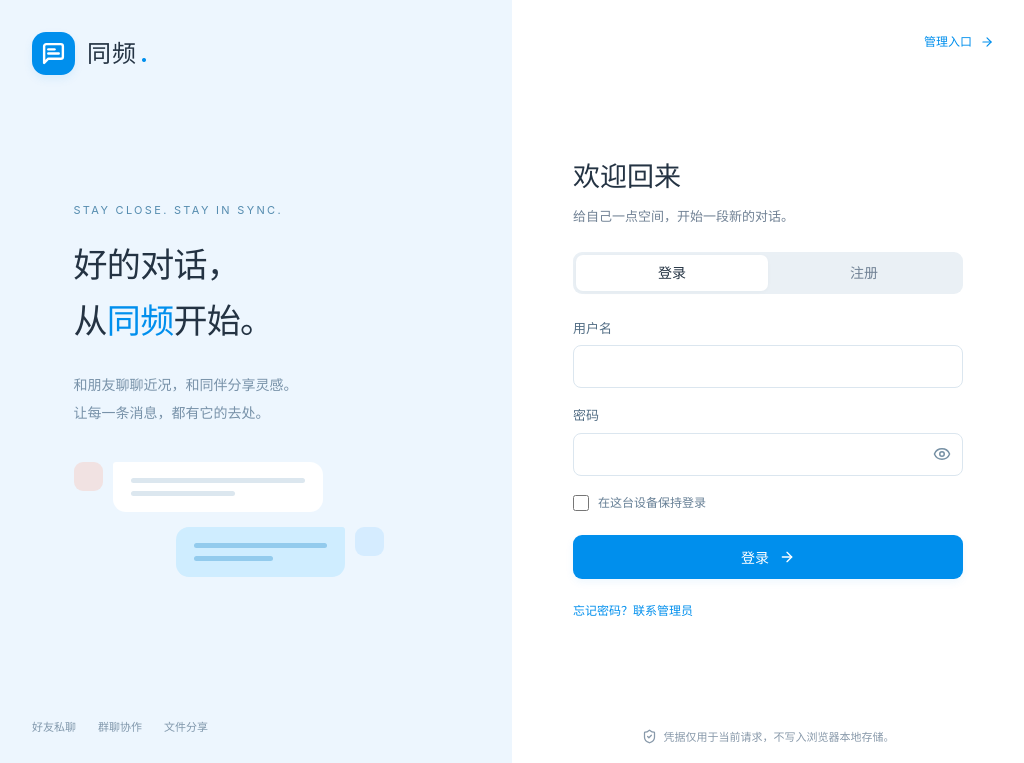
Test: M2 authentication UI › ignores a late challenge image after changing mode
Step 1. Type "test_user" into the field labelled "用户名" → (768, 367), box [573,345,963,388]
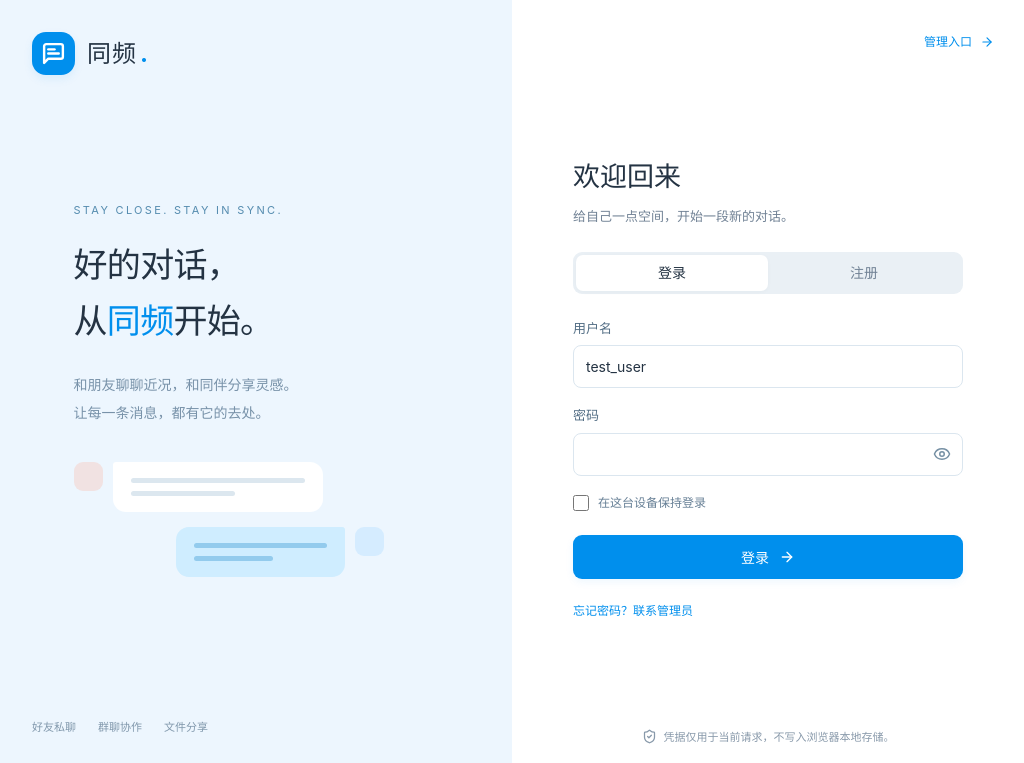
Step 2. Type "a safe test password" into the password field labelled "密码" → (768, 454), box [573,433,963,476]
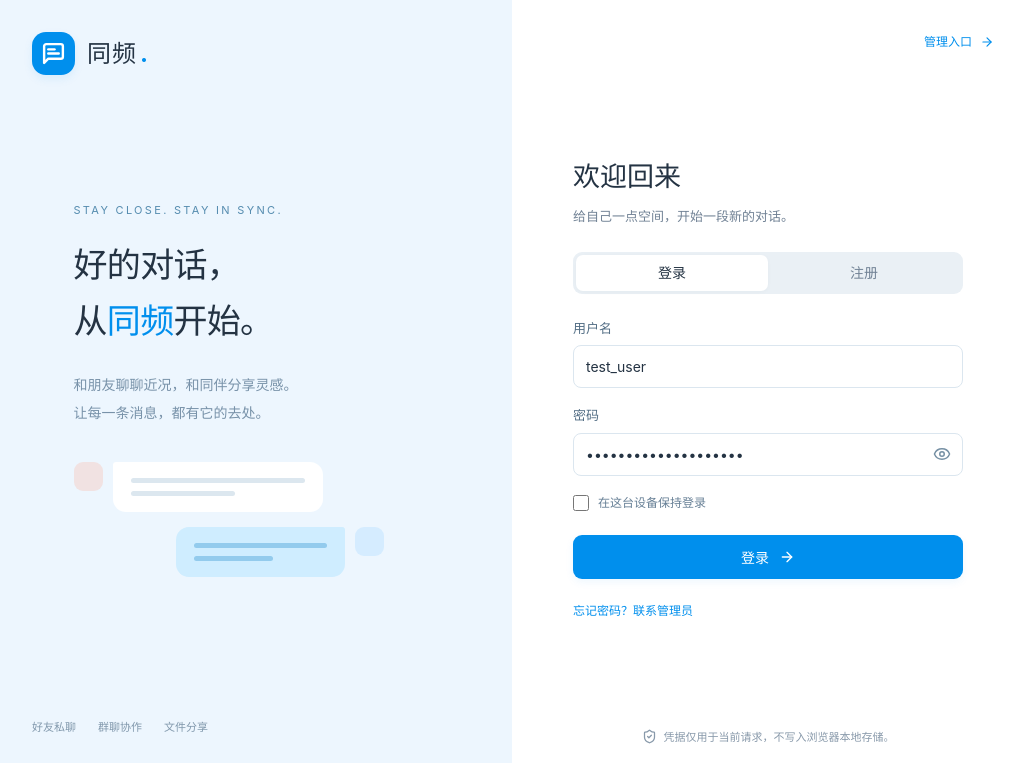
Step 3. Click the button "登录" below "在这台设备保持登录" → click(768, 558), box [573,536,963,580]
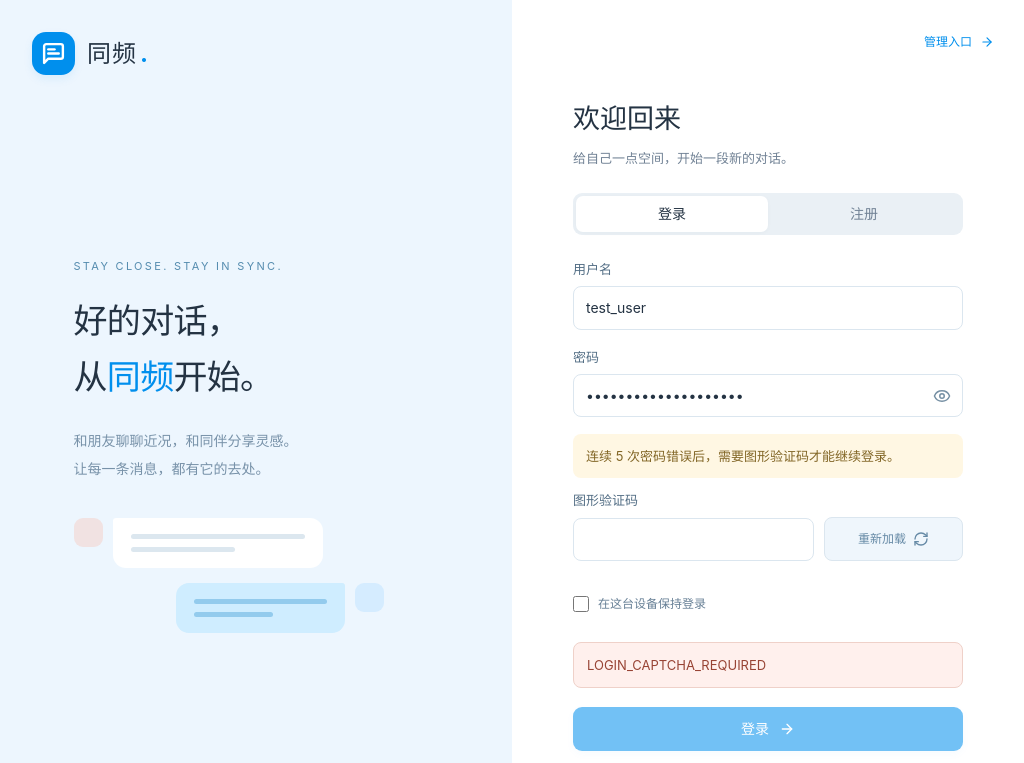
Now the text "LOGIN_CAPTCHA_REQUIRED" is shown, box [573,642,963,688]
Step 4. Click the button "注册" → click(864, 214), box [768,196,960,232]
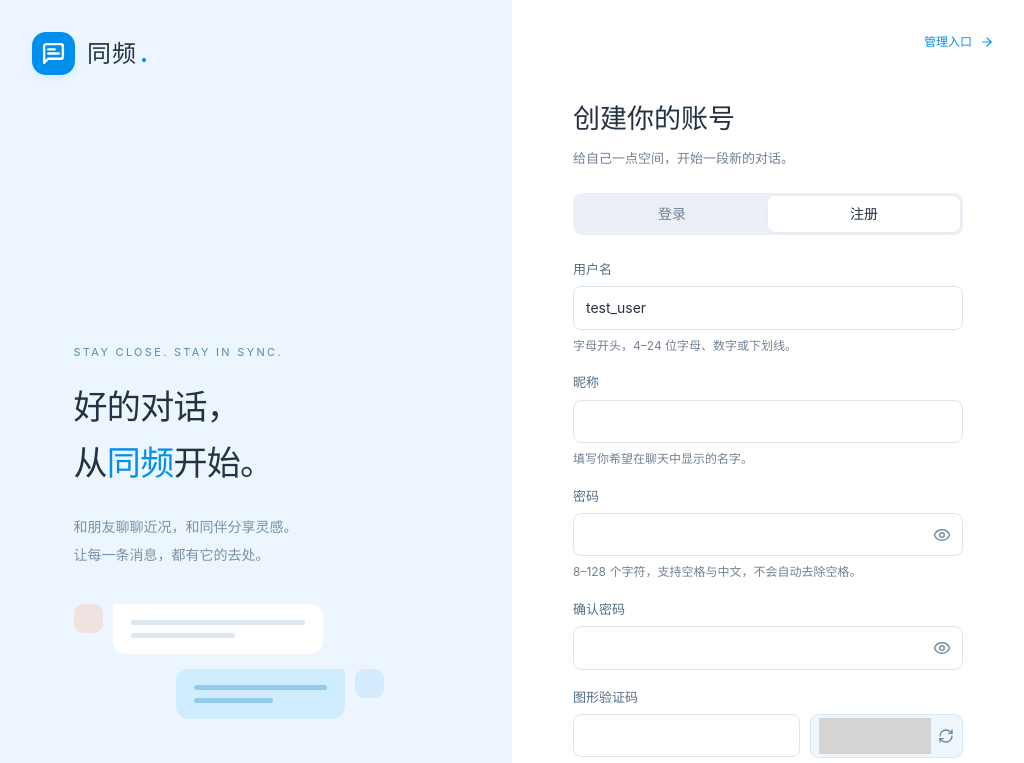
Step 5. Click the button "登录" → click(672, 214), box [576,196,768,232]
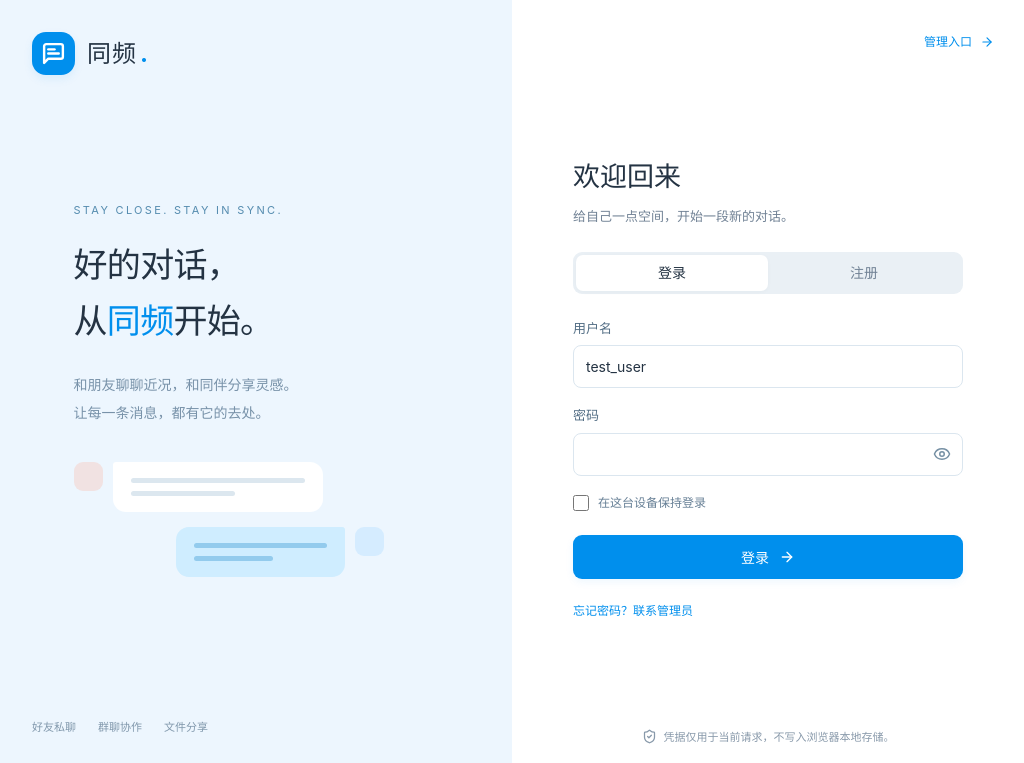
Now the label labelled "图形验证码" is gone
Now the button "登录" below "在这台设备保持登录" is enabled, box [573,536,963,580]
